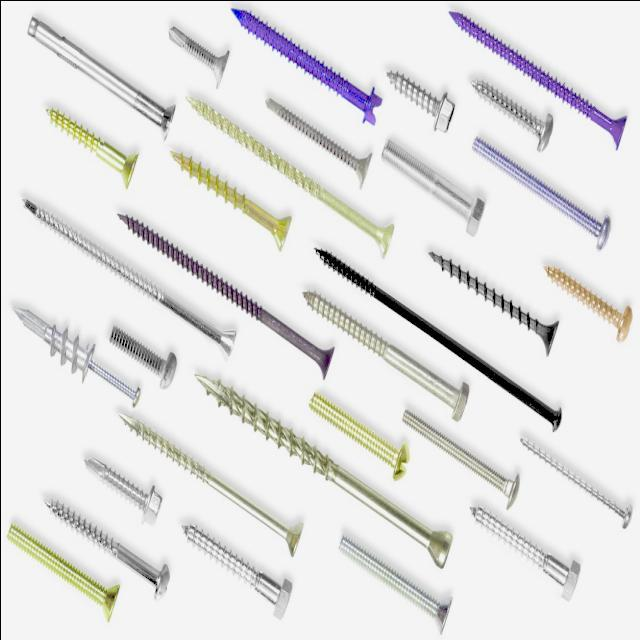Dry Waste: (87, 398, 320, 636), (365, 114, 503, 262), (461, 503, 597, 619)
